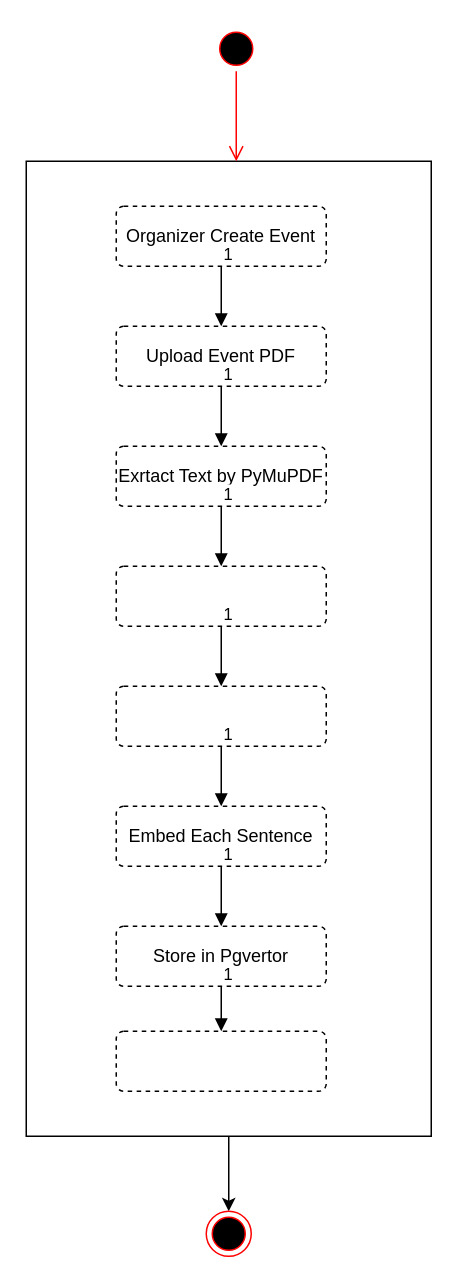
This 458x1283 diagram has some shape labels left out. The shapes that lost their labels are listed below. From the top down, each one's box as (x1, y1, x2, y2) in pixels, then its label:
(115, 565, 326, 626): Page has Text
(115, 685, 326, 746): Splite into sentence
(115, 1030, 326, 1091): Clear Symntic Cache
